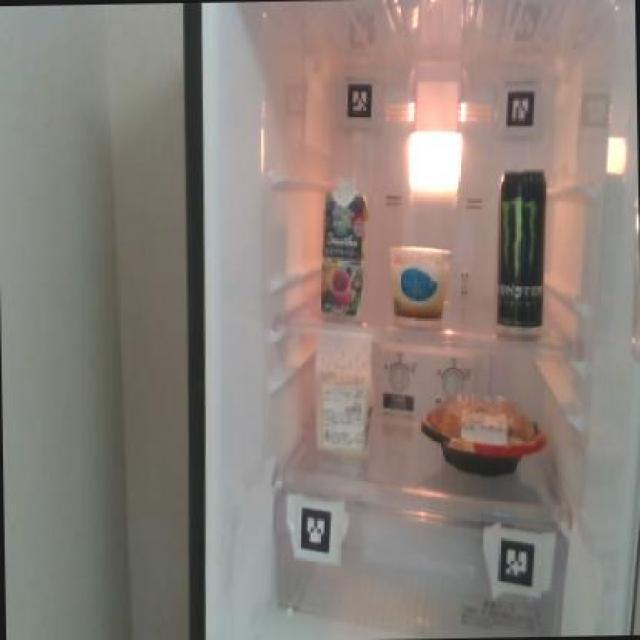bento: (420, 392, 548, 477)
can: (489, 162, 548, 336)
pudding: (385, 238, 450, 324)
sandwich: (310, 330, 376, 461)
smoothie: (313, 175, 370, 318)
